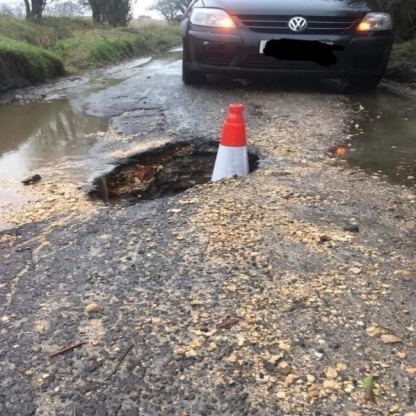pothole: (77, 125, 264, 214)
